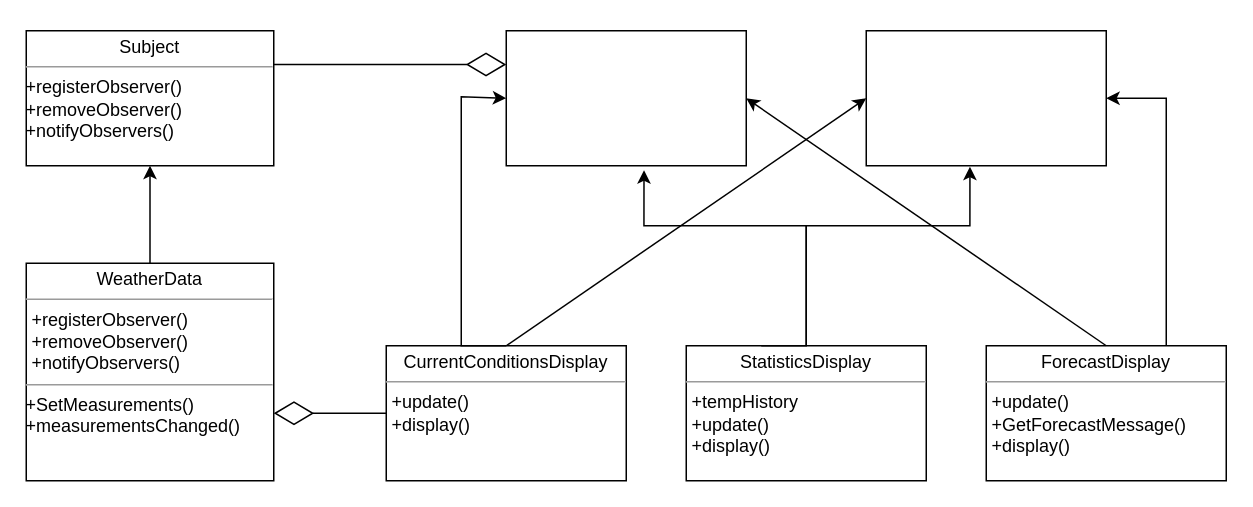
The diagram is 1253 pixels wide and 507 high, and some of its shapes have lost their labels. The box of each missing label's shape, as (x1, y1, x2, y2) in pixels:
DisplayElement +display(): (865, 29, 1106, 166)
Observer +update(): (505, 29, 746, 166)
